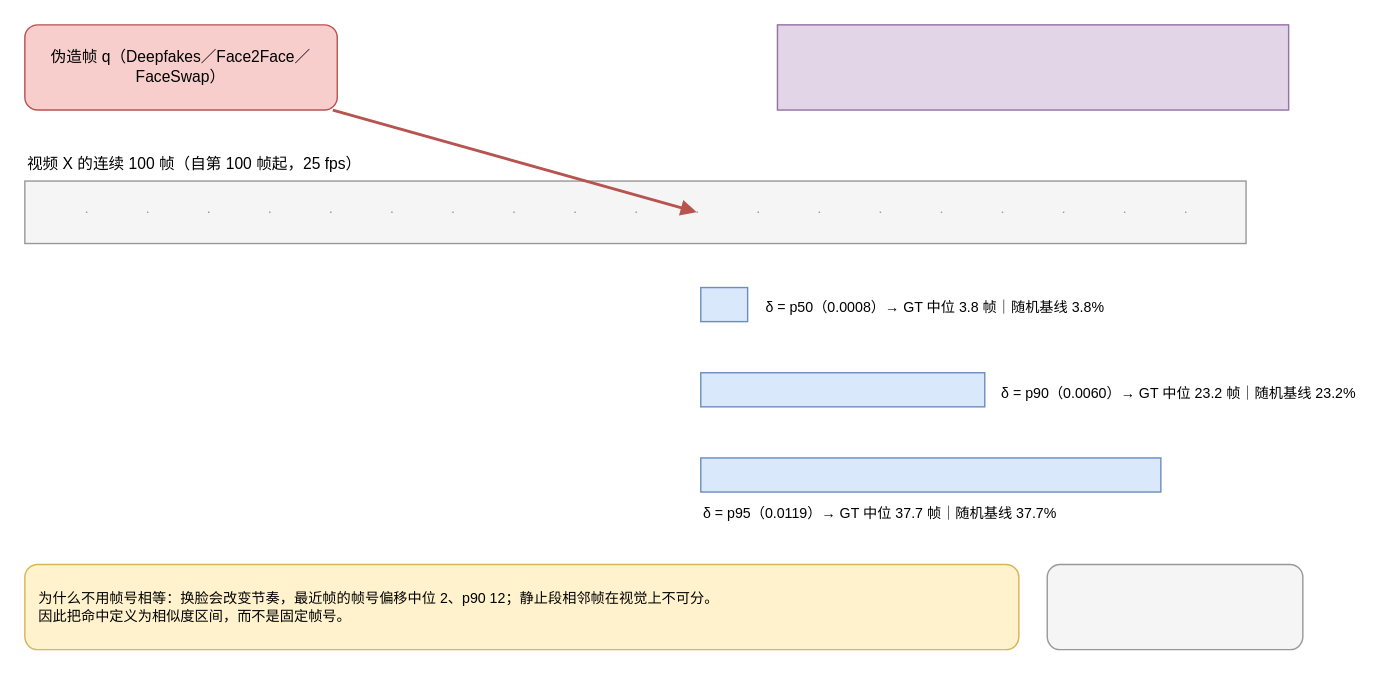
This 1379x675 diagram has some shape labels left out. Each missing label, with the centre of its shape:
r8 仅用于定义真值， 不作为检索方法报告: pixel 1174 606
真值：GT(q) = { g 与 q 同视频，d(q,g) ≤ d_min(q) + δ } d(q,g) = 1 − cos( r8(q), r8(g) ): pixel 1032 66
